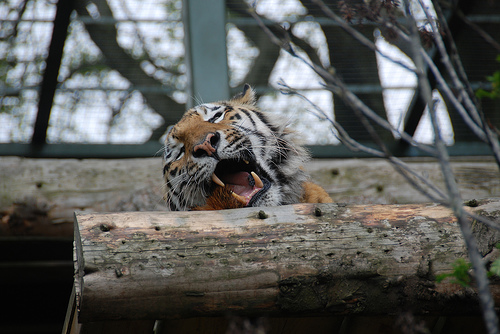Tigre: (145, 106, 306, 218)
